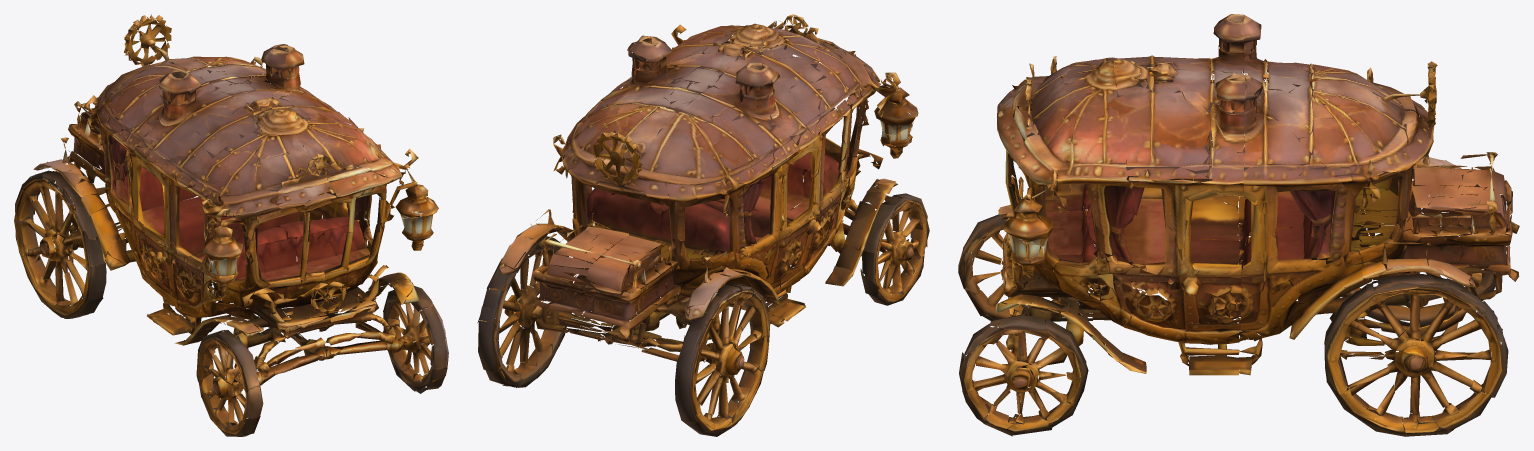
3 renders of one model, left to right at view 1: azimuth 30°, elevation 25°; view 2: azimuth 150°, elevation 25°; view 3: azimuth 270°, elevation 25°, orthographic. The views are drawn at different scales.
Visible parts, largest first — view 1: tripo_node_a3bb2c43-de9e-4e37-92f8-3c842edd5686; view 2: tripo_node_a3bb2c43-de9e-4e37-92f8-3c842edd5686; view 3: tripo_node_a3bb2c43-de9e-4e37-92f8-3c842edd5686.
Boxes of the visible parts, <box> form: tripo_node_a3bb2c43-de9e-4e37-92f8-3c842edd5686: <box>14,14,448,436</box>; tripo_node_a3bb2c43-de9e-4e37-92f8-3c842edd5686: <box>477,14,929,436</box>; tripo_node_a3bb2c43-de9e-4e37-92f8-3c842edd5686: <box>958,14,1519,436</box>.
Size of the model in its own units: 0.5513 by 0.6409 by 0.9811.
Materials: 1 (1 with a texture image).
